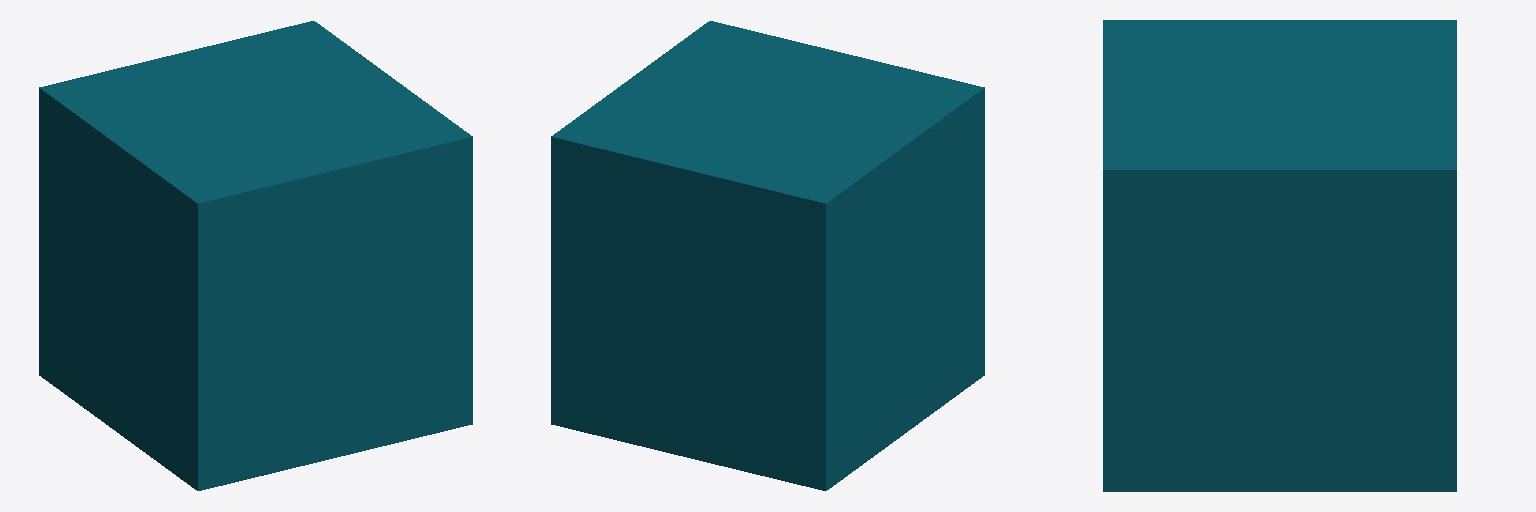
The robot description file, URDF, robot "box_bot":
<?xml version="1.0"?>
<robot name="box_bot">

  <material name="red">
      <color rgba="1.0 0.0 0.0 1"/>
  </material>

  <material name="green_light">
      <color rgba="0.0 1.0 0.0 1"/>
  </material>

  <material name="green_dark">
    <color rgba="0.0 0.5 0.0 1"/>
  </material>

  <material name="blue">
      <color rgba="0.0 0.0 1.0 1"/>
  </material>

  <material name="yellow">
      <color rgba="1.0 1.0 0.0 1"/>
  </material>

  <material name="black">
      <color rgba="0.0 0.0 0.0 1"/>
  </material>

  <material name="white">
      <color rgba="1.0 1.0 1.0 1"/>
  </material>

  <material name="box_bot_blue">
      <color rgba="0.088656 0.428691 0.491021 1"/>
  </material>

  <link name="base_link">
  </link>


  <!-- Body -->
  <link name="chassis">
    <visual>
      <geometry>
        <mesh filename="package://main_pkg/meshes/cube_tag4_green.dae" scale="0.025 0.025 0.025"/>
      </geometry>
      <material name="box_bot_blue"/>
    </visual>

    <collision>
      <geometry>
        <box size="0.05 0.05 0.05"/>
      </geometry>
    </collision>

    <inertial>
      <mass value="0.1"/>
      <origin rpy="0 0 0" xyz="0 0 0"/>
      <inertia ixx="0.0000415" ixy="0" ixz="0" iyy="0.0000415" iyz="0" izz="0.0000415"/>  <!-- for a box: ixx = 0.083 * mass * (y*y + z*z) -->
    </inertial>

    <surface>
        <contact>
          <collide_bitmask>0x02</collide_bitmask>
        </contact>
      </surface>

  </link>
  <gazebo reference="chassis">
    <kp>1000000.0</kp>
    <kd>1.0</kd>
    <mu1>0.8</mu1>
    <mu2>0.8</mu2>
    <maxVel>0.0</maxVel>
    <minDepth>0.001</minDepth>
</gazebo>

  <joint name="base_link_joint" type="fixed">
    <origin rpy="0 0 0" xyz="0 0 0" />
    <parent link="base_link" />
    <child link="chassis" />
  </joint>



</robot>

--- Facts derived from the render (not from the file) ---
Views: 3 orthographic renders of the robot side by side, from view 1: azimuth 30°, elevation 25°; view 2: azimuth 150°, elevation 25°; view 3: azimuth 270°, elevation 25°.
Model box_bot with 2 links and 1 joints (1 fixed), rooted at base_link, posed all joints at 0.
Visible links, largest first — view 1: chassis; view 2: chassis; view 3: chassis.
Boxes of the visible links, x1,y1,x2,y2 form: chassis: [39, 21, 472, 490]; chassis: [551, 21, 984, 490]; chassis: [1103, 20, 1456, 491].
Size in the robot's own frame: 0.05 by 0.05 by 0.05 metres.
Meshes: 1 distinct files referenced, 1 mesh visuals loaded (1 Collada DAE).